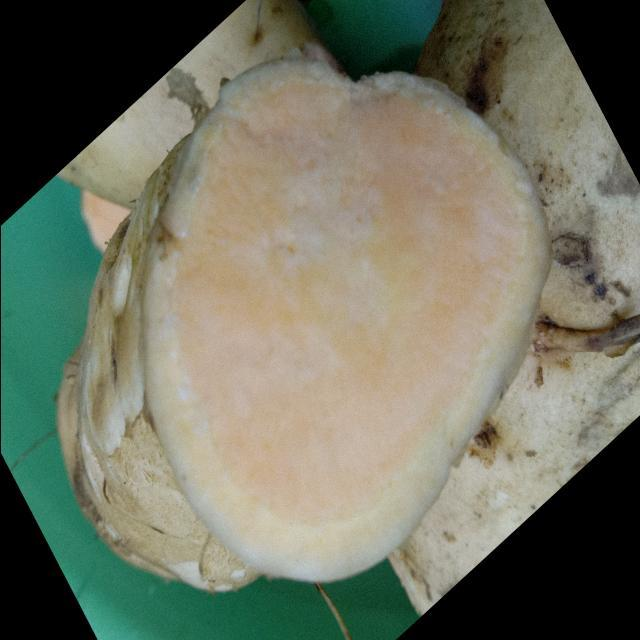Healthy Sweet Potato: (144, 57, 549, 580)
